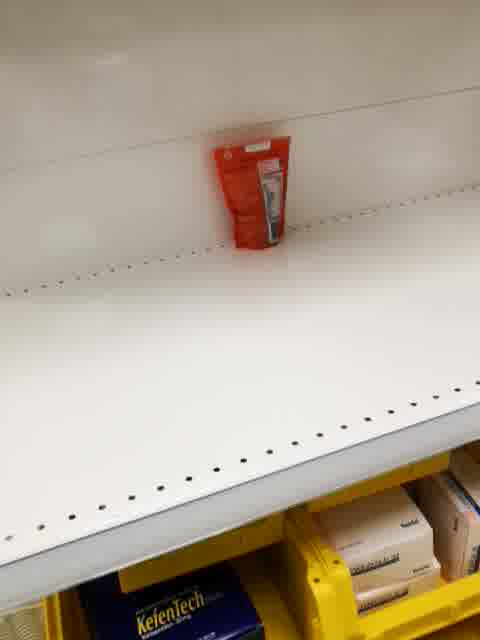whitechia: (208, 134, 293, 253)
